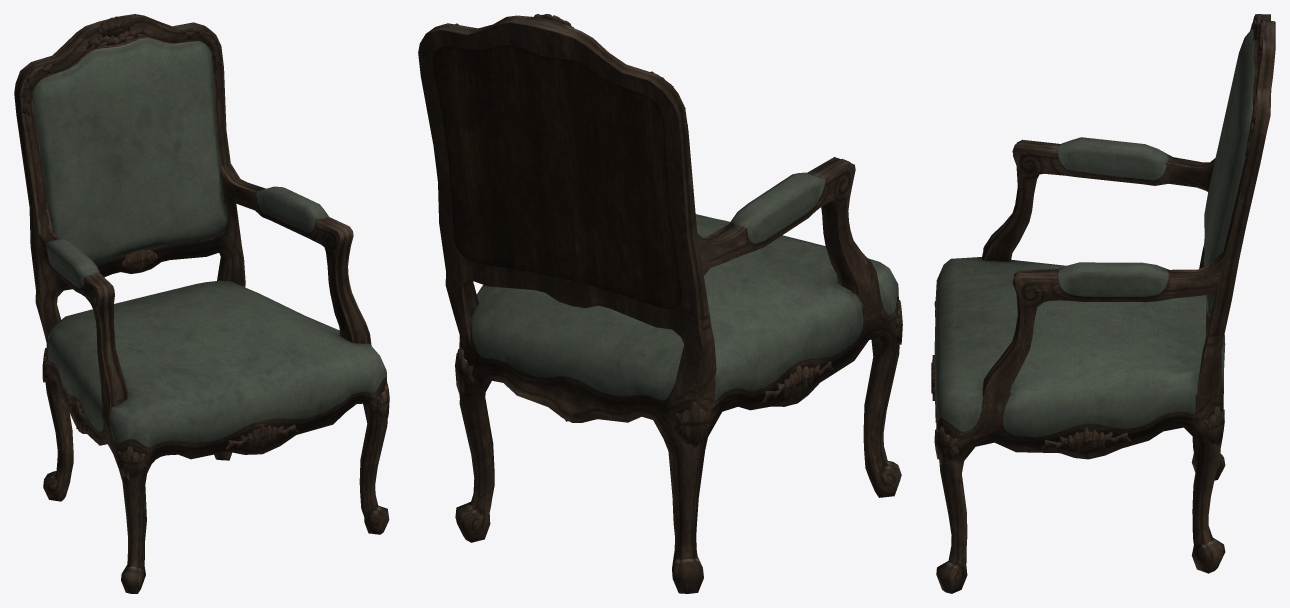
The model's file is gothic-armchair-with-green-upholstery.glb.
3 views of the same model, side by side, from view 1: azimuth 30°, elevation 25°; view 2: azimuth 150°, elevation 25°; view 3: azimuth 270°, elevation 25° (orthographic). The views are drawn at different scales.
Visible parts, largest first — view 1: GreenChair_01; view 2: GreenChair_01; view 3: GreenChair_01.
Boxes of the visible parts, box(x1,y1,x2,y2) form: GreenChair_01: box(14, 14, 389, 593); GreenChair_01: box(418, 14, 902, 593); GreenChair_01: box(931, 14, 1275, 593).
Bounding box in the file's own units: 0.6732 × 1.06 × 0.6644.
Materials: 1 (1 with a texture image).
